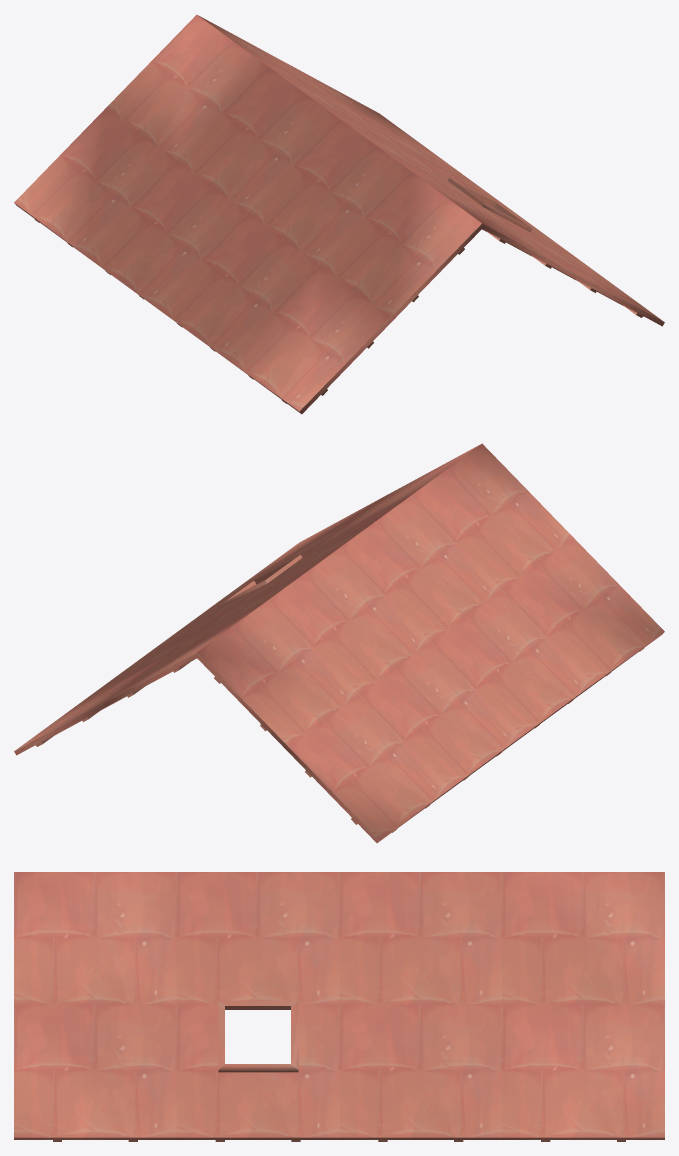
The model's file is roof_01.fbx.
3 views of the same model, one above another, from view 1: azimuth 30°, elevation 25°; view 2: azimuth 150°, elevation 25°; view 3: azimuth 270°, elevation 25° (orthographic). The views are drawn at different scales.
Parts seen in each view (by area): view 1: roof_01; view 2: roof_01; view 3: roof_01.
Part boxes in pixels (x1,y1,x2,y2): roof_01: (14, 14, 664, 414); roof_01: (14, 443, 664, 843); roof_01: (14, 872, 664, 1141).
Bounding box in the file's own units: 1636 × 2212 × 640.
